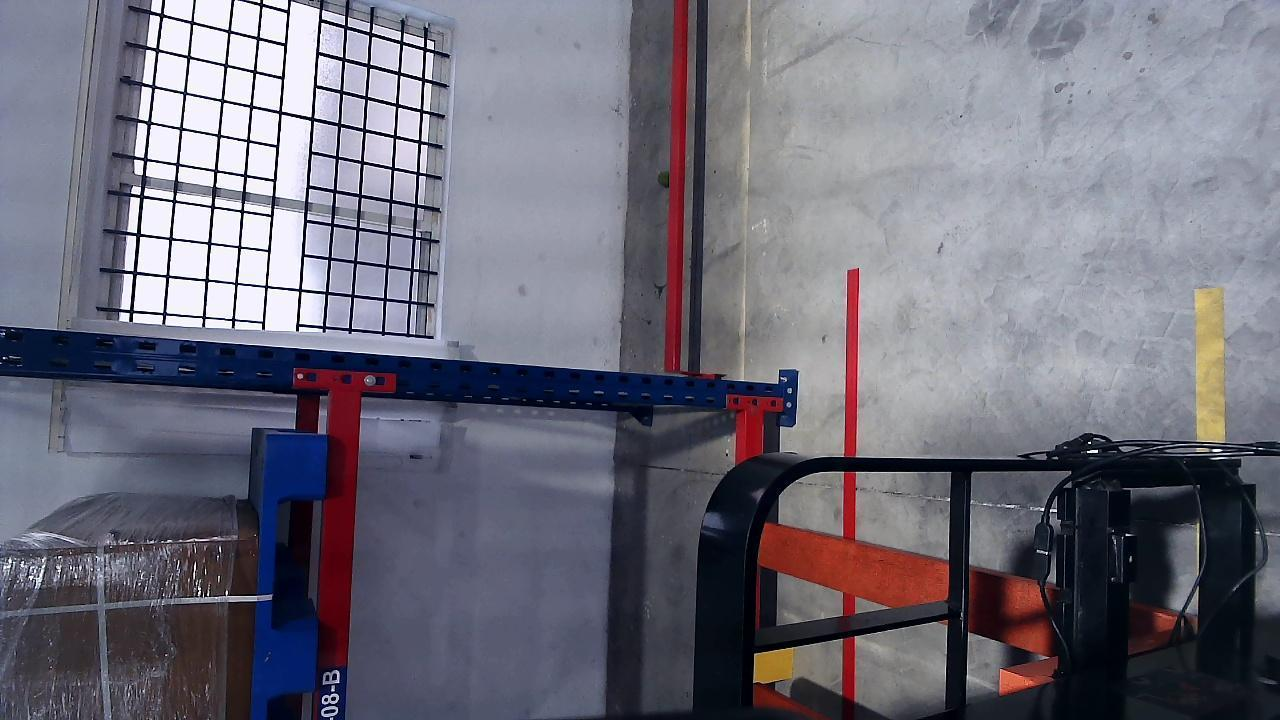red_line: (844, 269, 861, 455)
yellow_line: (1194, 286, 1225, 444)
